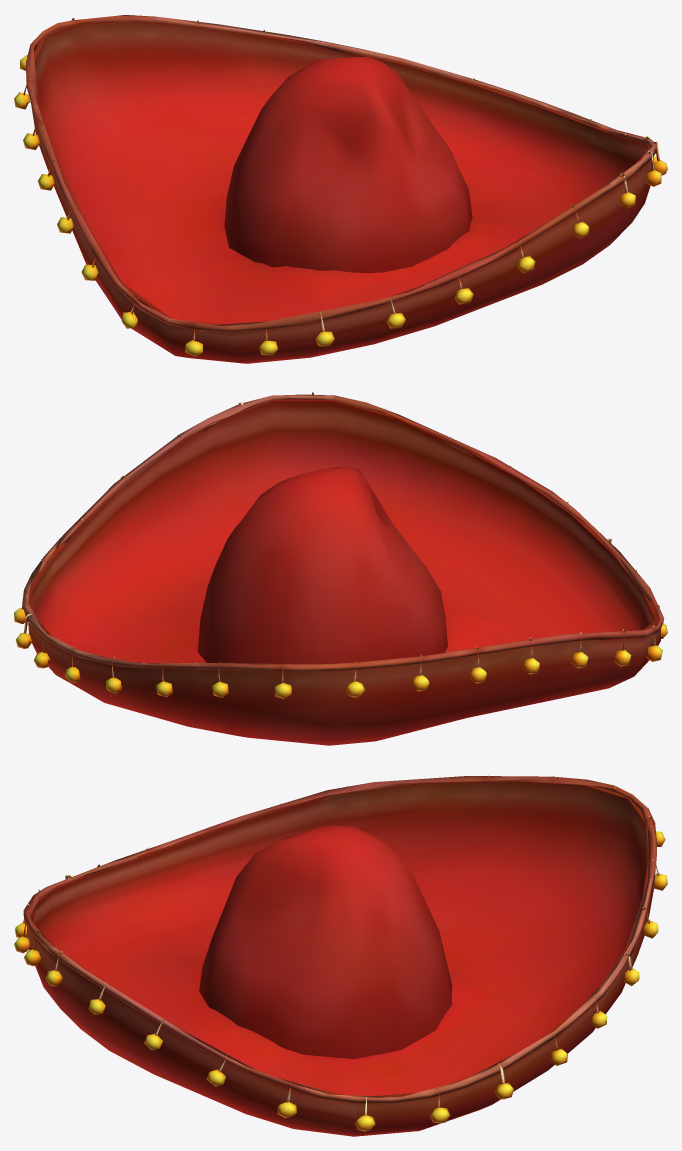
Rendered from Mexican_Hat.glb.
3 renders of one model, top to bottom at view 1: azimuth 30°, elevation 25°; view 2: azimuth 150°, elevation 25°; view 3: azimuth 270°, elevation 25°, orthographic.
Parts seen in each view (by area): view 1: Mexican_Hat; view 2: Mexican_Hat; view 3: Mexican_Hat.
Part boxes in pixels (x1,y1,x2,y2): Mexican_Hat: (14, 14, 667, 363); Mexican_Hat: (14, 392, 667, 745); Mexican_Hat: (14, 774, 667, 1136).
Bounding box in the file's own units: 1.08 × 0.3527 × 1.08.
1 material, 1 textured.
